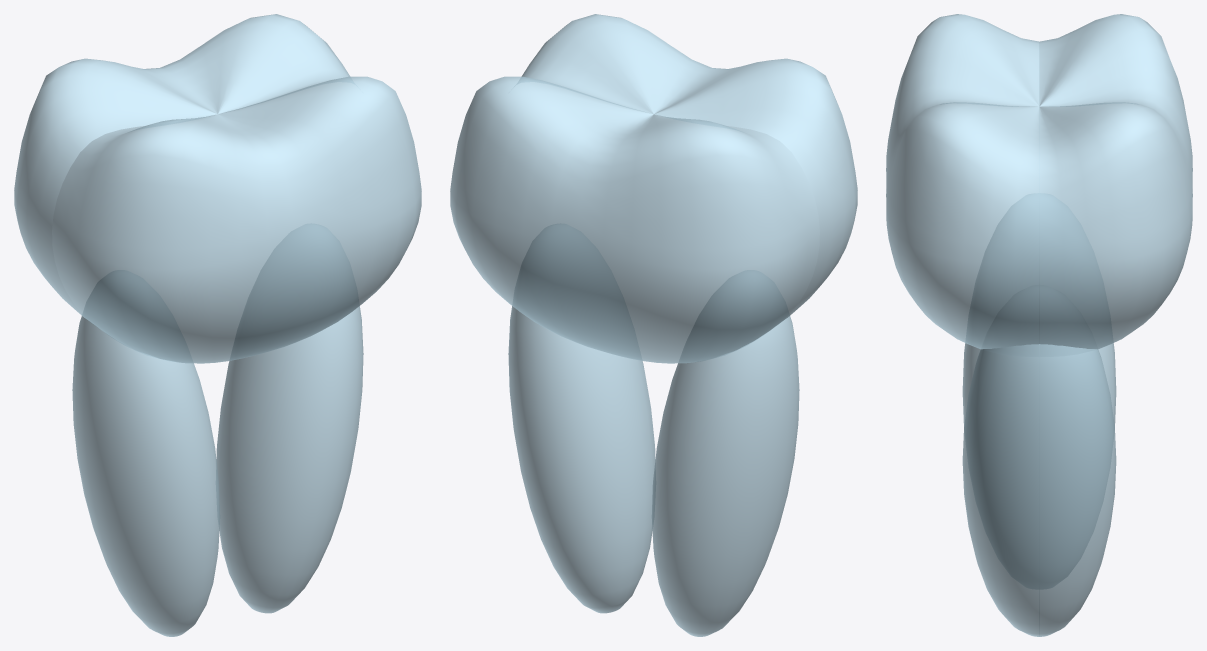
File: dental.glb
The picture shows the model from 3 angles, left to right: view 1: azimuth 30°, elevation 25°; view 2: azimuth 150°, elevation 25°; view 3: azimuth 270°, elevation 25°; orthographic projection.
Visible parts, largest first — view 1: fragment_2, fragment_4, fragment_5, fragment_3, fragment_0, fragment_1; view 2: fragment_0, fragment_4, fragment_5, fragment_1, fragment_2, fragment_3; view 3: fragment_5, fragment_3, fragment_1, fragment_2, fragment_0, fragment_4.
Boxes of the visible parts, left/top/right/bottom form: fragment_2: left=52, top=114, right=294, bottom=363; fragment_4: left=72, top=316, right=220, bottom=636; fragment_5: left=216, top=306, right=363, bottom=613; fragment_3: left=218, top=76, right=421, bottom=355; fragment_0: left=14, top=58, right=217, bottom=321; fragment_1: left=160, top=14, right=350, bottom=113; fragment_0: left=577, top=114, right=819, bottom=363; fragment_4: left=651, top=292, right=799, bottom=636; fragment_5: left=508, top=306, right=655, bottom=613; fragment_1: left=450, top=76, right=653, bottom=355; fragment_2: left=654, top=58, right=857, bottom=321; fragment_3: left=521, top=14, right=711, bottom=113; fragment_5: left=962, top=302, right=1116, bottom=636; fragment_3: left=886, top=98, right=1039, bottom=349; fragment_1: left=1039, top=98, right=1192, bottom=349; fragment_2: left=886, top=14, right=1039, bottom=180; fragment_0: left=1039, top=14, right=1192, bottom=180; fragment_4: left=962, top=343, right=1116, bottom=426.
Size of the model in its own units: 1.44 by 2.27 by 1.16.
